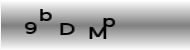9: (24, 21, 36, 36)
D: (58, 22, 75, 35)
M: (88, 26, 106, 39)
b: (37, 7, 53, 21)
p: (102, 15, 115, 31)
